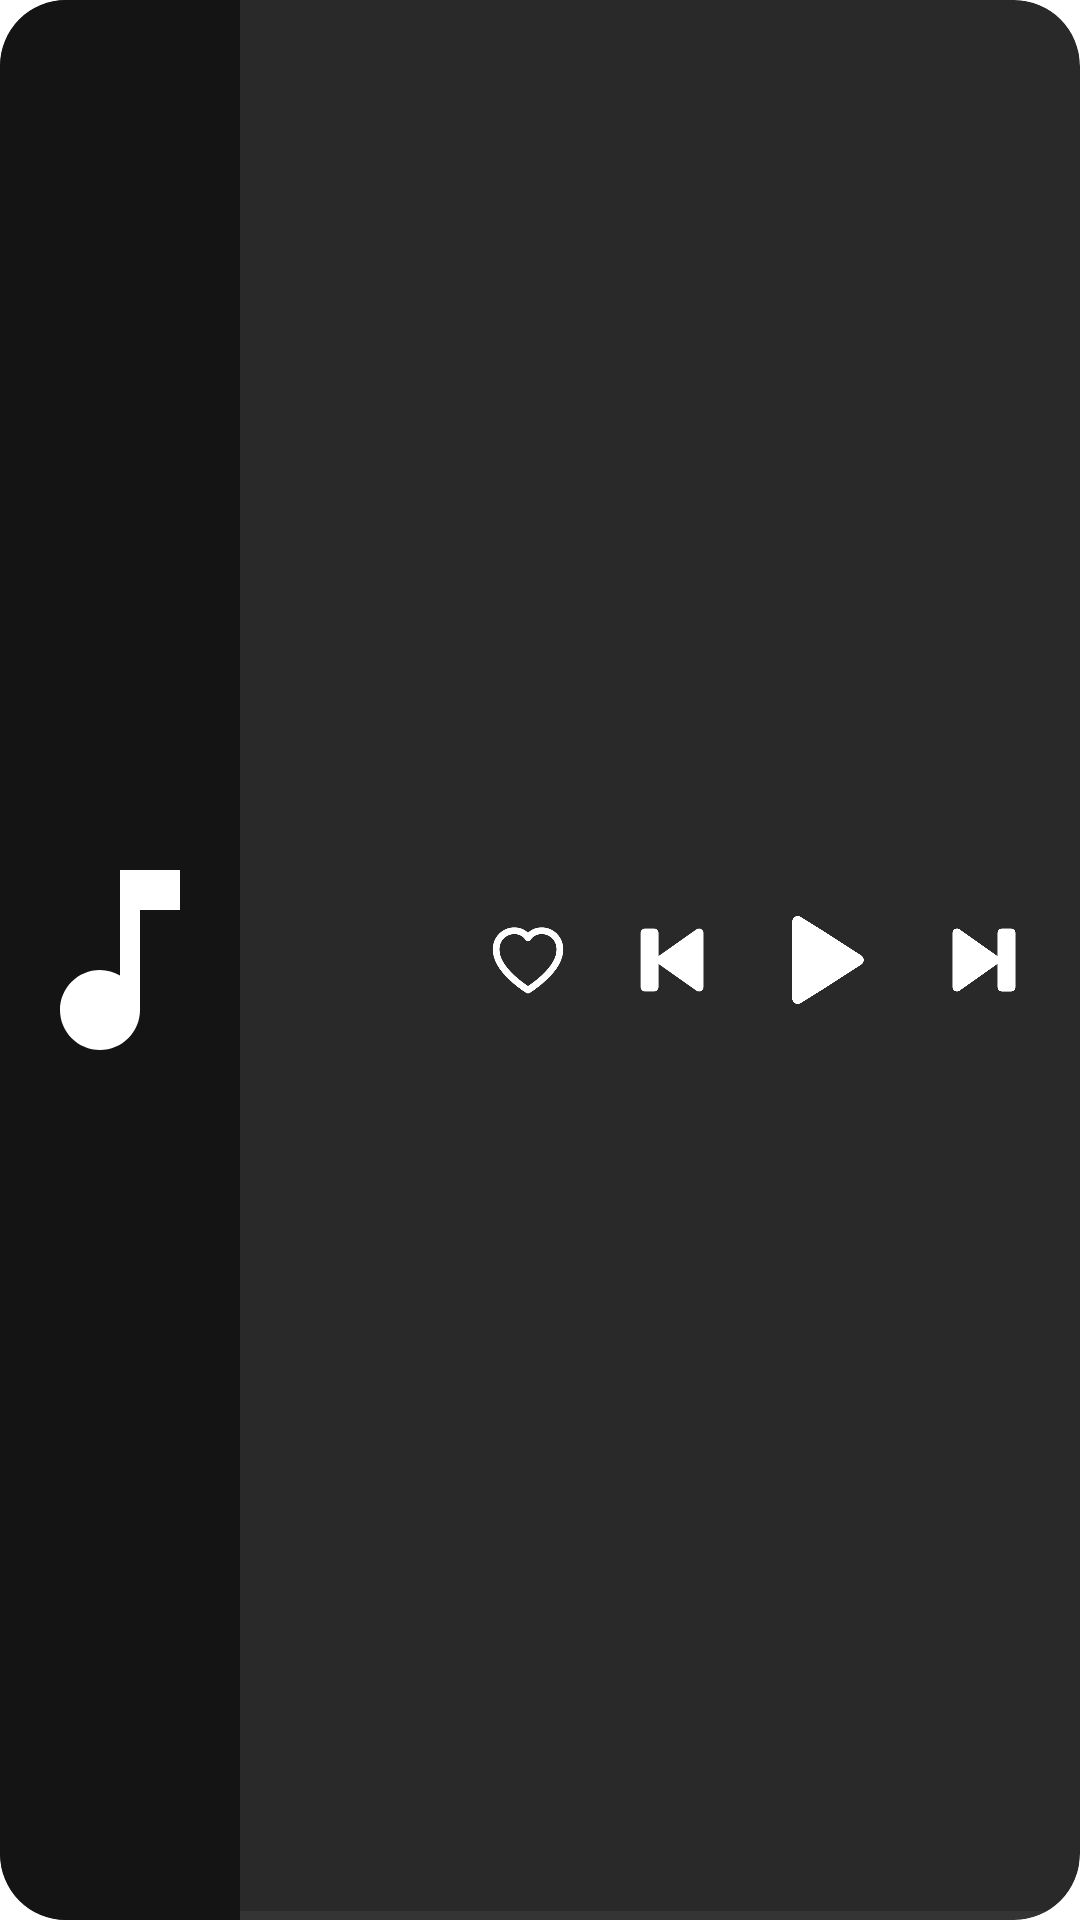

Icon bounding boxes for this 1080px x 1920px phone screenshot, format box=[x1, y1, x2, y2]:
next: box=[952, 928, 1016, 992]
prev: box=[640, 928, 704, 992]
